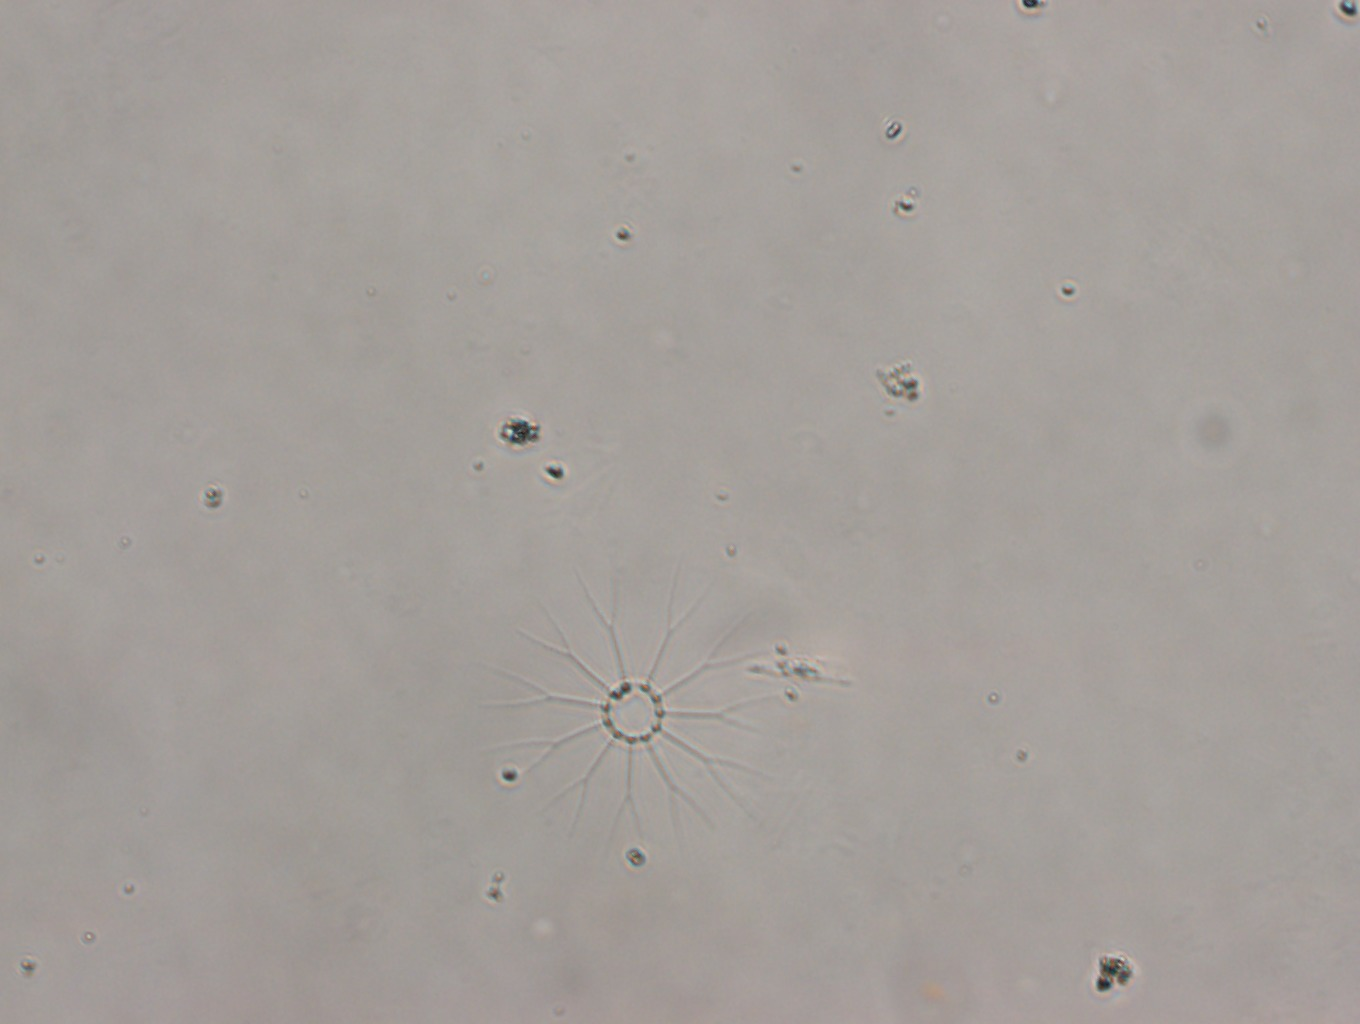bacteriastrum: (479, 561, 802, 864)
